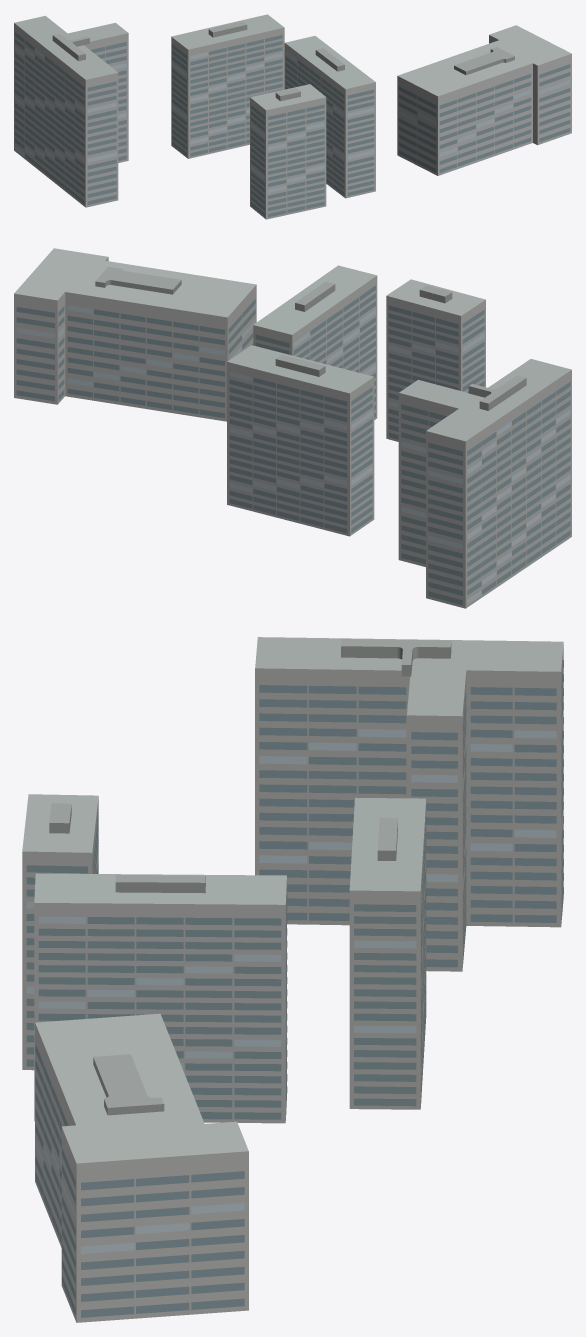
The model's file is apt-a14024001.glb.
The picture shows the model from 3 angles, top to bottom: view 1: azimuth 30°, elevation 25°; view 2: azimuth 150°, elevation 25°; view 3: azimuth 270°, elevation 25°; orthographic projection. The views are drawn at different scales.
Visible parts, largest first — view 1: apt-a14024001; view 2: apt-a14024001; view 3: apt-a14024001.
Part boxes in pixels (left/top/right/bottom): apt-a14024001: left=14, top=14, right=571, bottom=219; apt-a14024001: left=14, top=248, right=571, bottom=608; apt-a14024001: left=22, top=637, right=563, bottom=1322.
Bounding box in the file's own units: 194 × 56 × 103.
